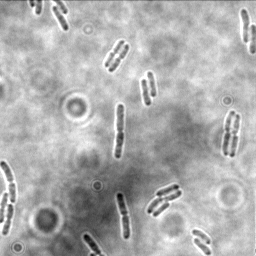Dividing: (0, 160, 19, 204), (116, 192, 132, 239), (113, 102, 126, 159), (221, 110, 236, 157), (108, 42, 130, 73), (228, 112, 242, 158), (103, 39, 125, 68), (1, 204, 16, 237), (0, 192, 11, 223)
Microcolony: (146, 183, 183, 218)
Rod: (52, 5, 70, 32), (82, 233, 102, 254), (239, 8, 250, 43), (145, 70, 158, 97), (192, 238, 212, 255), (141, 78, 152, 107), (191, 228, 212, 243), (248, 23, 255, 56)
